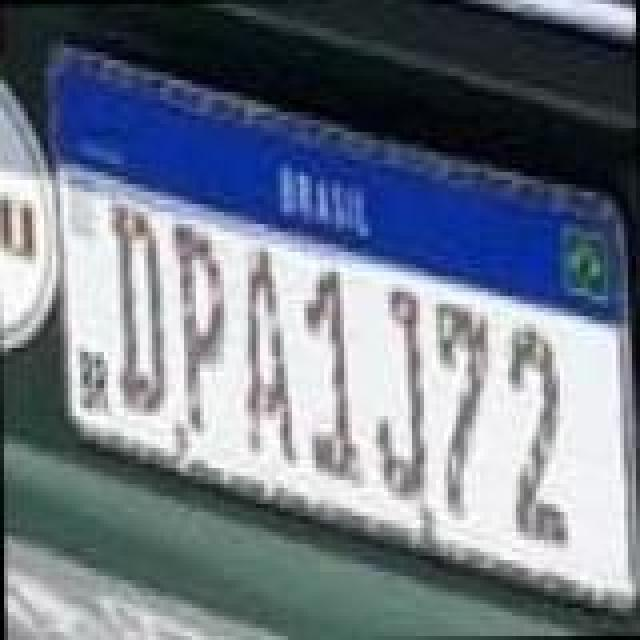1: (300, 264, 364, 488)
2: (502, 324, 570, 556)
7: (432, 296, 496, 520)
A: (240, 240, 296, 464)
D: (104, 196, 168, 412)
J: (370, 284, 430, 508)
P: (170, 216, 230, 432)
